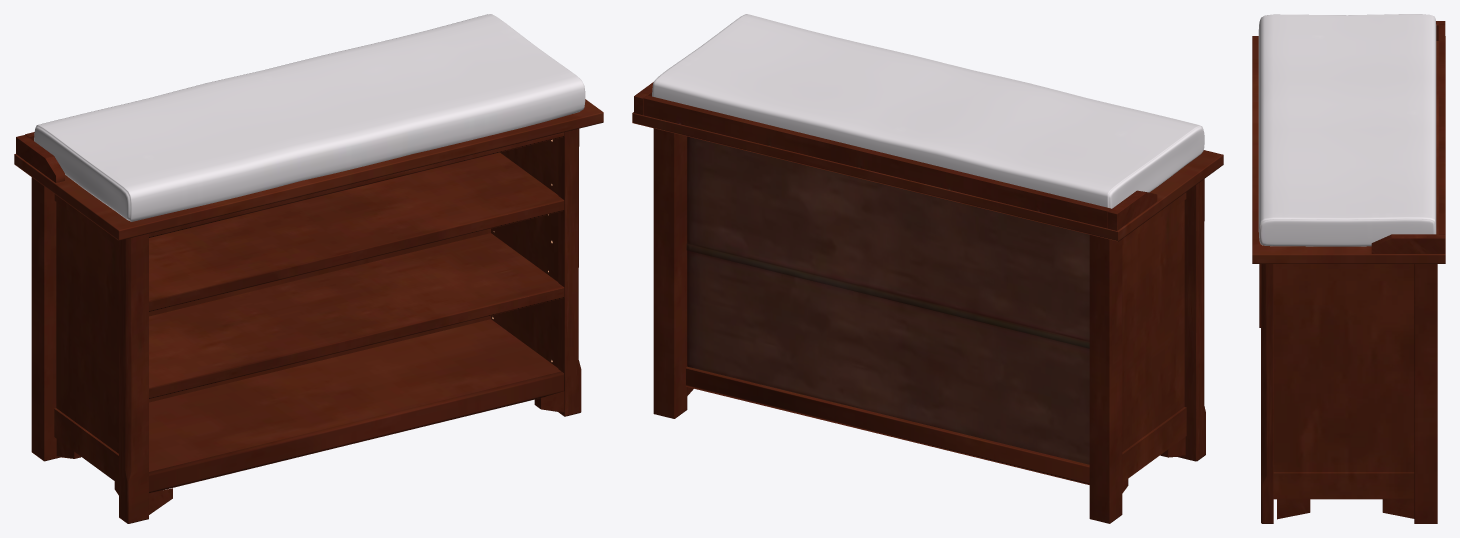
The model's file is abo-B07DBB7FN6.glb.
The picture shows the model from 3 angles, left to right: view 1: azimuth 30°, elevation 25°; view 2: azimuth 150°, elevation 25°; view 3: azimuth 270°, elevation 25°; orthographic projection. The views are drawn at different scales.
Size of the model in its own units: 0.987 by 0.646 by 0.369.
1 material, 1 textured.
